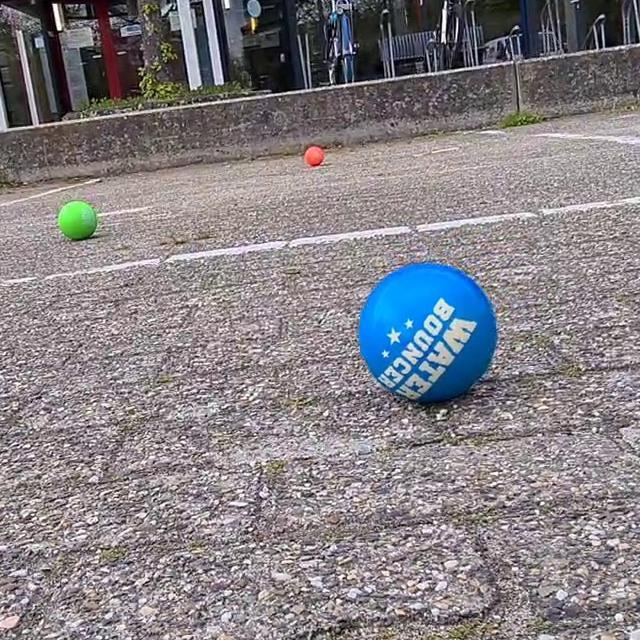ball: (55, 199, 98, 240), (302, 144, 324, 166)
